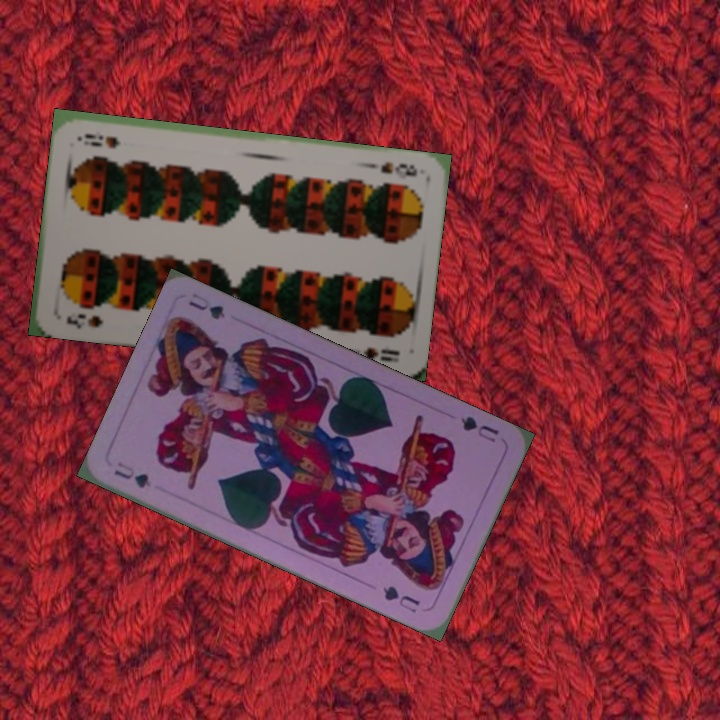GU: (456, 412, 502, 445), (110, 458, 154, 491)
S8: (364, 158, 420, 181), (62, 309, 106, 332)
